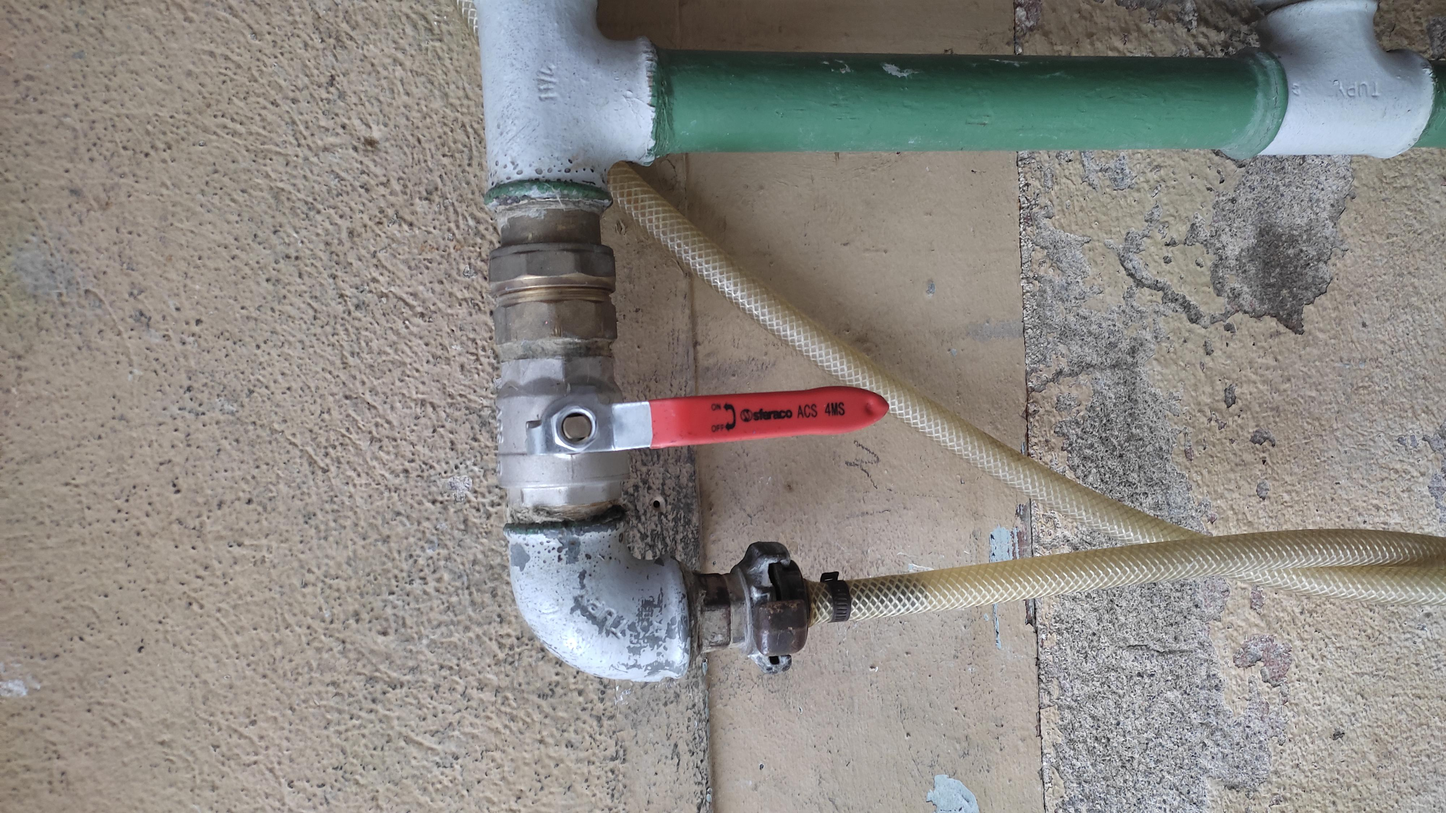closed valve: (494, 351, 891, 513)
